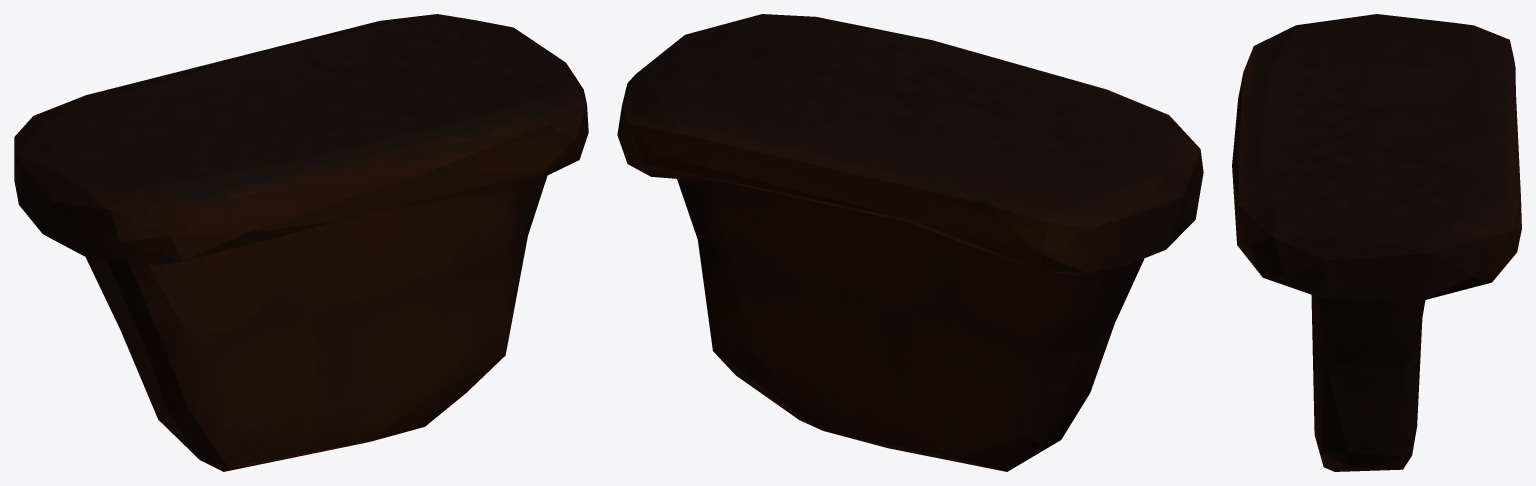
3 renders of one model, left to right at view 1: azimuth 30°, elevation 25°; view 2: azimuth 150°, elevation 25°; view 3: azimuth 270°, elevation 25°, orthographic. The views are drawn at different scales.
Parts seen in each view (by area): view 1: geometry_0.044_Baked; view 2: geometry_0.044_Baked; view 3: geometry_0.044_Baked.
Boxes of the visible parts, x1,y1,x2,y2 form: geometry_0.044_Baked: (14,14,588,471); geometry_0.044_Baked: (617,14,1203,471); geometry_0.044_Baked: (1232,14,1521,471).
Size of the model in its own units: 12.47 by 7.81 by 6.5.
